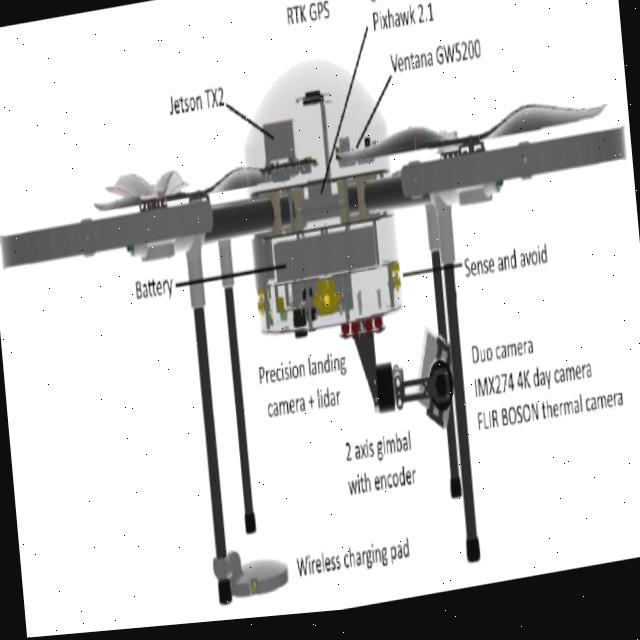drone: (2, 63, 640, 450)
